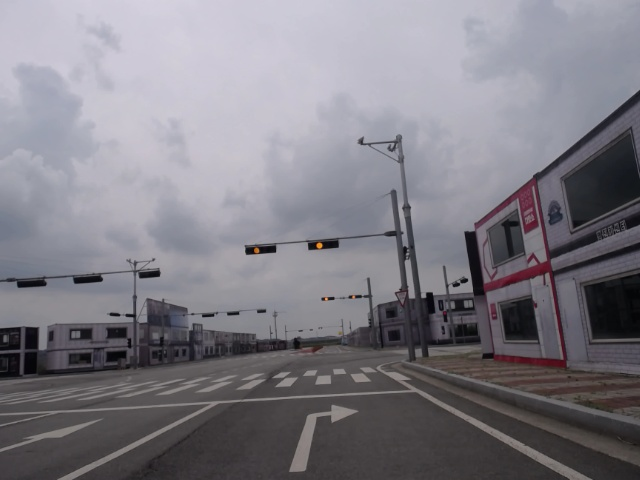orange_4: (243, 244, 278, 255), (305, 240, 340, 251), (346, 294, 363, 300), (320, 296, 336, 302)
